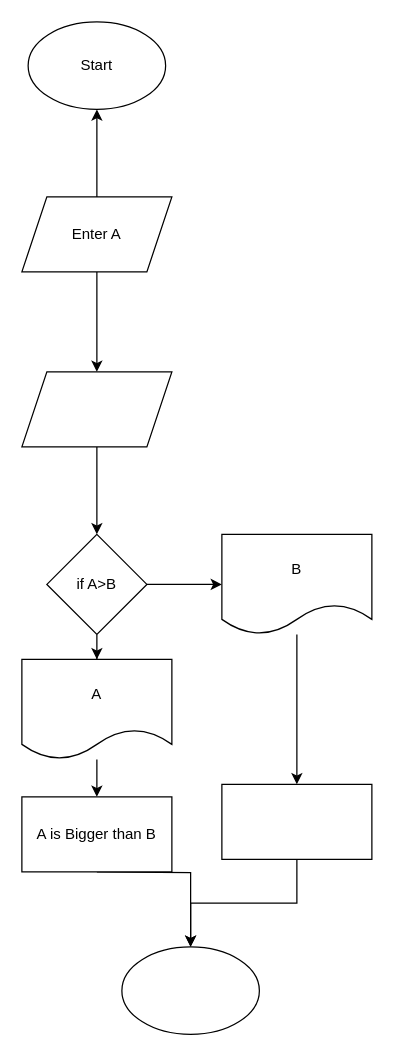
This 394x1056 diagram has some shape labels left out. The shapes that lost their labels are listed below. From the top down, each one's box as (x1, y1, x2, y2) in pixels, then its label:
(21, 371, 172, 447): Enter B
(221, 783, 372, 859): B is Bigger than A
(121, 946, 259, 1034): End
